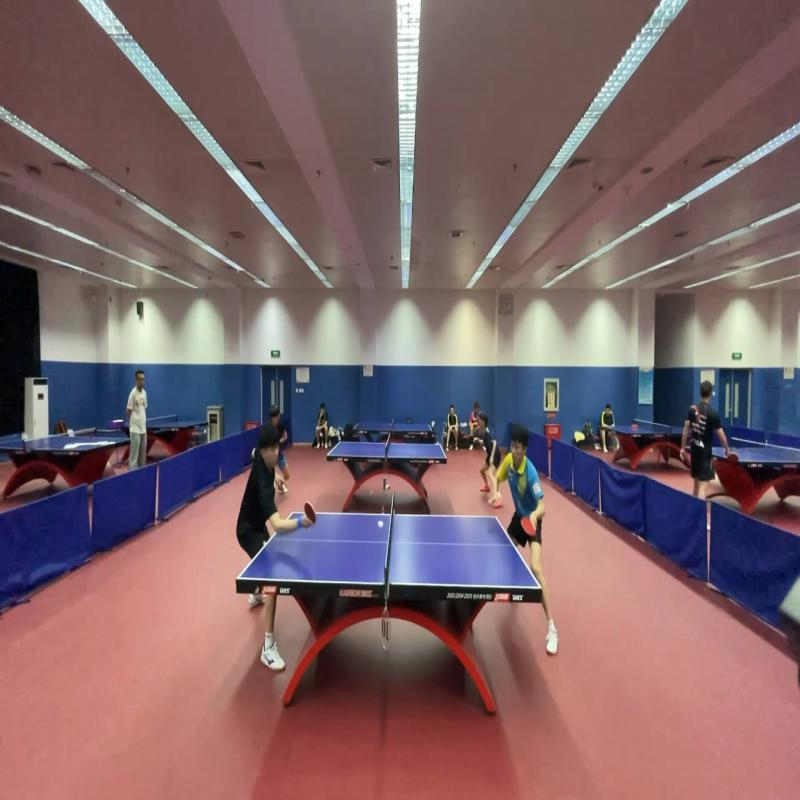bats: (302, 496, 322, 530)
